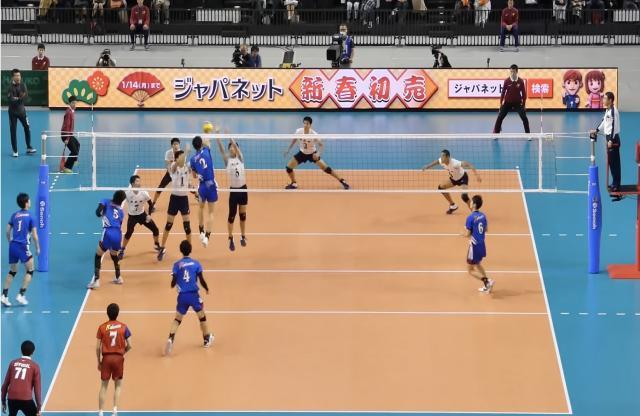spike: (186, 119, 224, 254)
